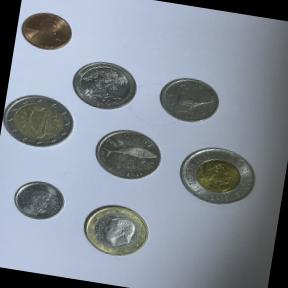1 Euro-B: (68, 194, 160, 268)
2 Euro-B: (0, 88, 80, 157)
Canada-10cent-B: (6, 173, 73, 230)
Canada-2Dollar-B: (166, 136, 268, 220)
Croatia-2Kune-B: (82, 120, 172, 193)
US-1cent-B: (12, 2, 82, 62)
US-25cent-B: (65, 54, 146, 118)
